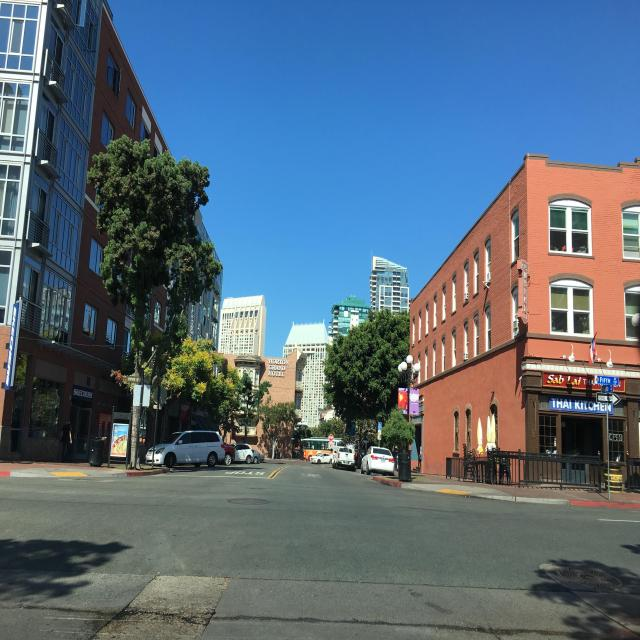Good: (535, 554, 626, 597), (225, 490, 271, 510)
